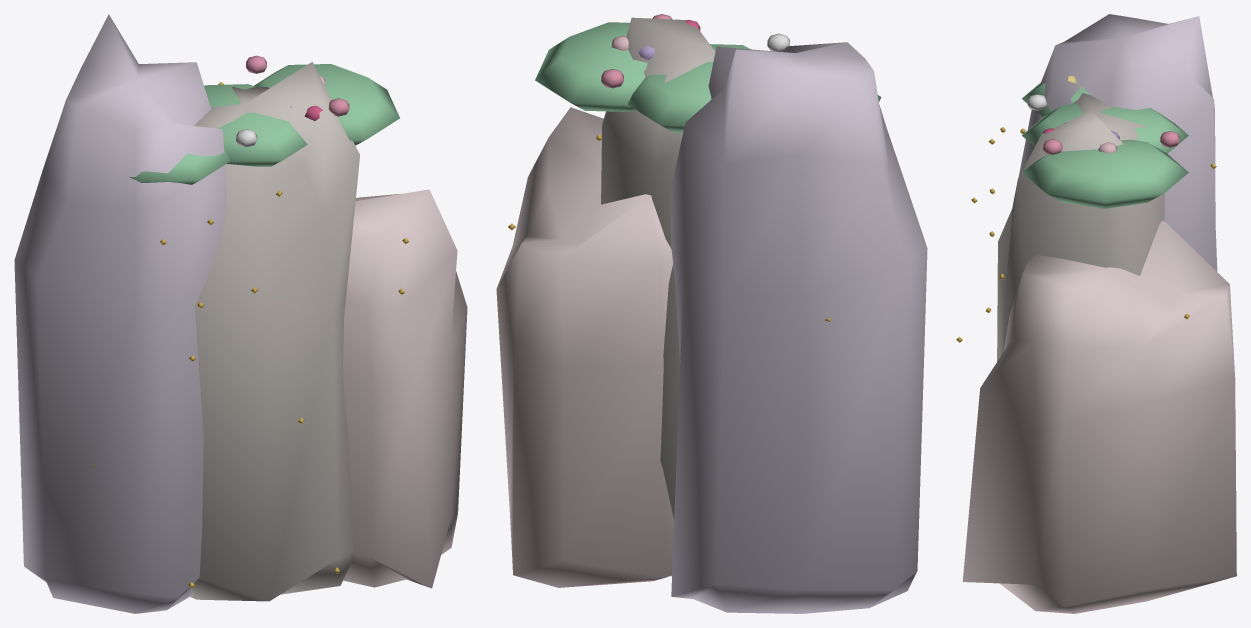
File: escarpment_rock_c.gltf
3 renders of one model, left to right at view 1: azimuth 30°, elevation 25°; view 2: azimuth 150°, elevation 25°; view 3: azimuth 270°, elevation 25°, orthographic. The views are drawn at different scales.
Visible parts, largest first — view 1: escarpment_rock_c; view 2: escarpment_rock_c; view 3: escarpment_rock_c.
Boxes of the visible parts, box(x1,y1,x2,y2) form: escarpment_rock_c: box(14, 14, 467, 613); escarpment_rock_c: box(496, 14, 927, 613); escarpment_rock_c: box(956, 14, 1236, 613).
Size of what is drawn, in the model's own units: 6.17 by 7.69 by 4.02.
